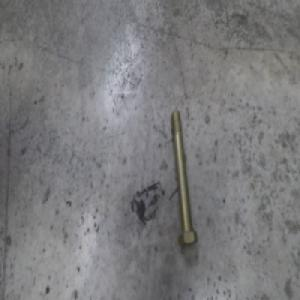Bolt: (165, 107, 194, 245)
